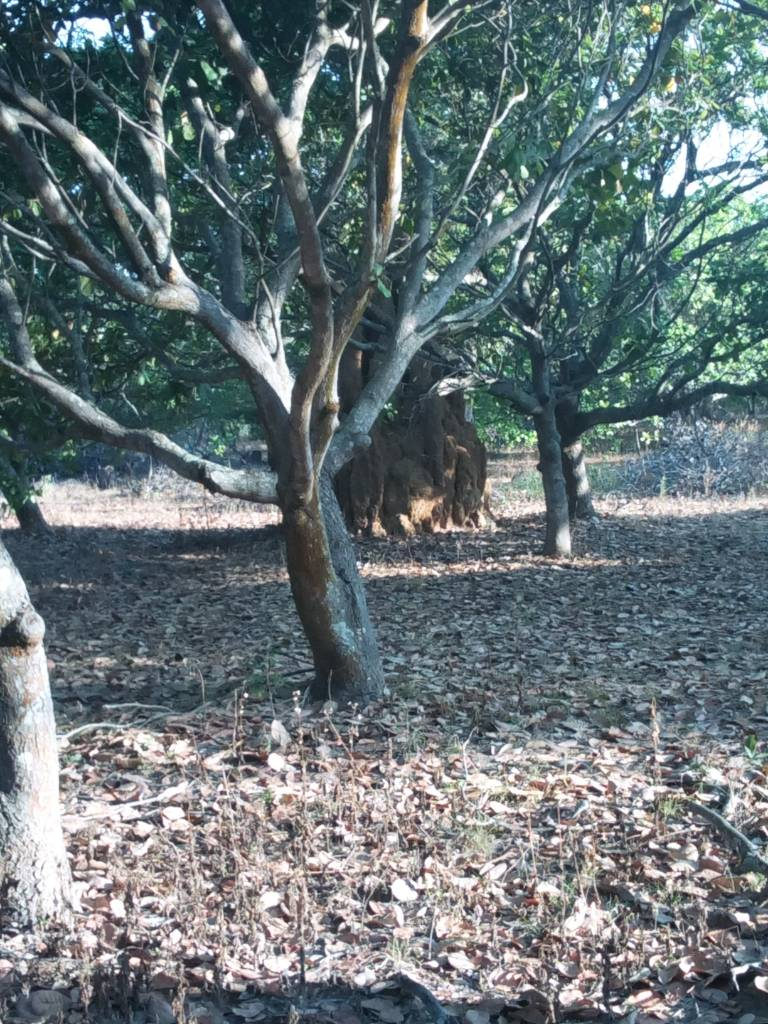Termites: (354, 419, 488, 533)
